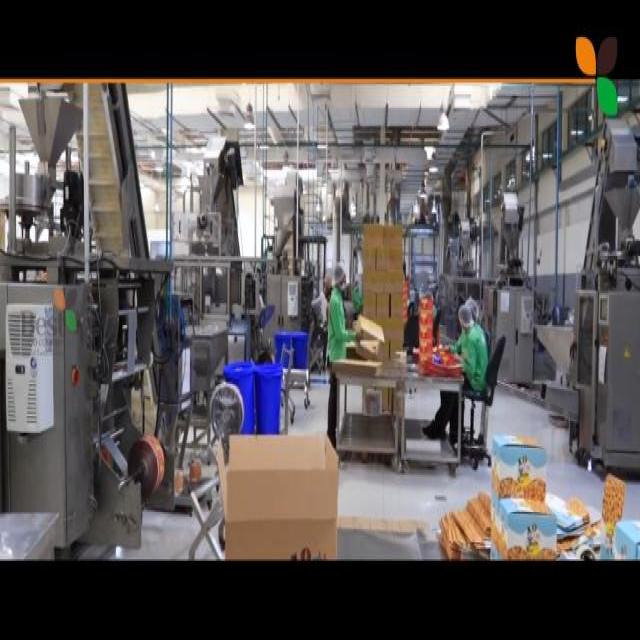hairnet: (332, 261, 348, 287), (459, 303, 472, 330)
